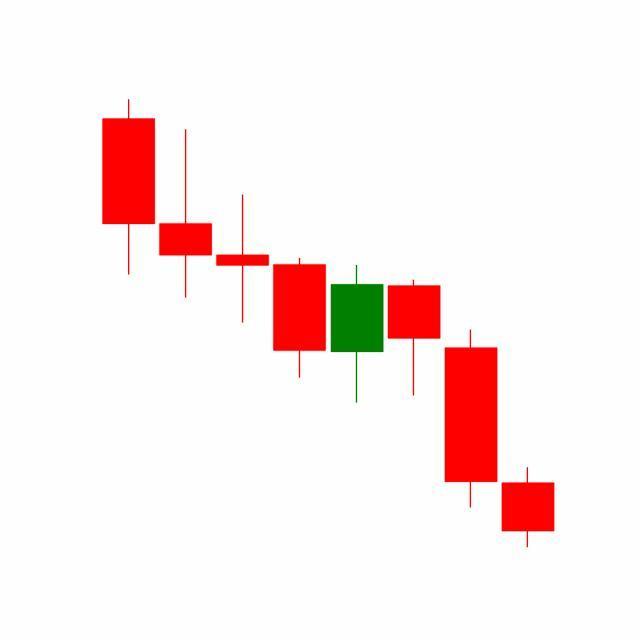Hikkake Pattern: (214, 191, 501, 512)
